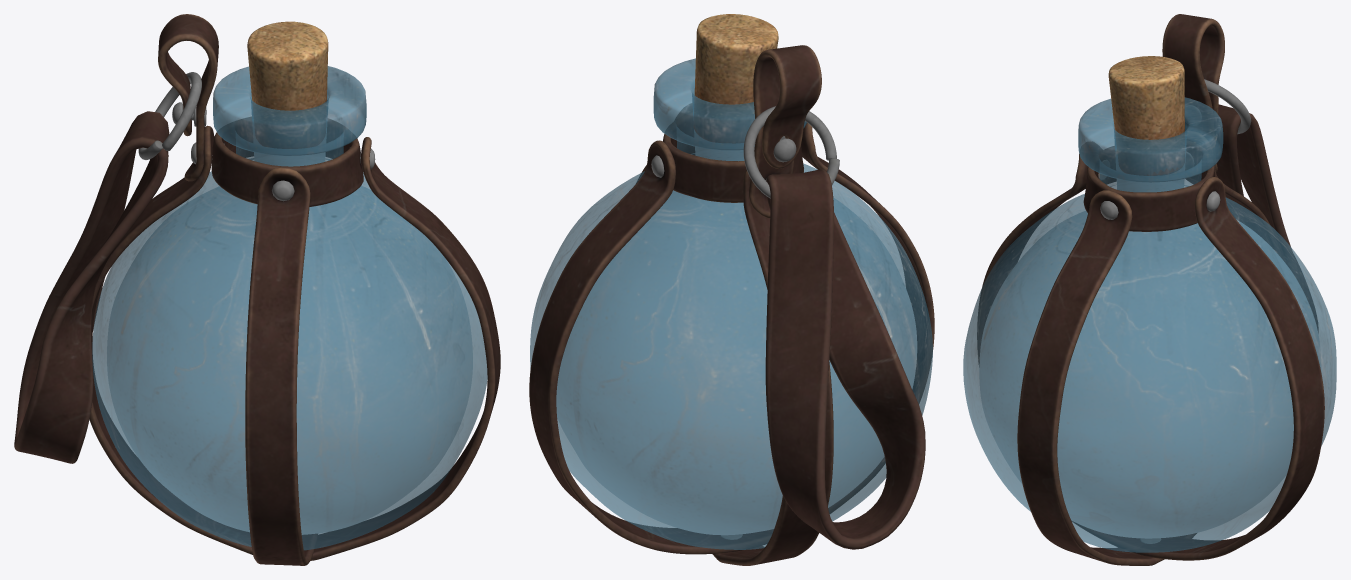
File: small_bottle.glb
The picture shows the model from 3 angles, left to right: view 1: azimuth 30°, elevation 25°; view 2: azimuth 150°, elevation 25°; view 3: azimuth 270°, elevation 25°; orthographic projection. The views are drawn at different scales.
Parts seen in each view (by area): view 1: Sklianka, Remny, Remeshok, Probka, Kolco; view 2: Sklianka, Remeshok, Remny, Probka, Kolco; view 3: Sklianka, Remny, Probka, Remeshok, Kolco.
Part boxes in pixels (x1=…): Sklianka: x1=92, y1=66, x2=487, y2=550; Remny: x1=89, y1=14, x2=500, y2=565; Remeshok: x1=14, y1=111, x2=169, y2=463; Probka: x1=247, y1=21, x2=328, y2=148; Kolco: x1=138, y1=72, x2=201, y2=159; Sklianka: x1=530, y1=58, x2=932, y2=549; Remeshok: x1=765, y1=169, x2=925, y2=549; Remny: x1=529, y1=45, x2=934, y2=565; Probka: x1=694, y1=14, x2=778, y2=142; Kolco: x1=743, y1=106, x2=839, y2=198; Sklianka: x1=963, y1=97, x2=1336, y2=552; Remny: x1=977, y1=14, x2=1324, y2=565; Probka: x1=1108, y1=56, x2=1184, y2=175; Remeshok: x1=1214, y1=104, x2=1318, y2=332; Kolco: x1=1204, y1=79, x2=1251, y2=134.
Size of the model in its own units: 1.52 by 1.96 by 1.31.
Materials: 1 (1 with a texture image).
